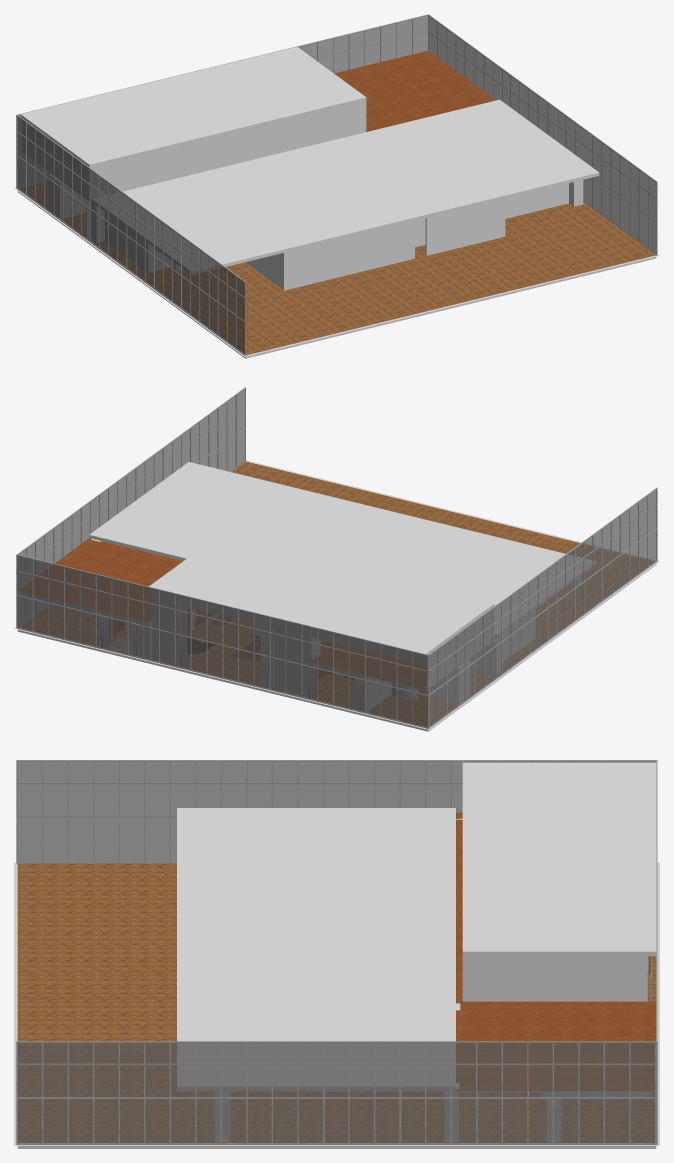
File: ELJ_ARQ.glb
The picture shows the model from 3 angles, top to bottom: view 1: azimuth 30°, elevation 25°; view 2: azimuth 150°, elevation 25°; view 3: azimuth 270°, elevation 25°; orthographic projection. The views are drawn at different scales.
Visible parts, largest first — view 1: ARQ_2_2, ARQ_2_1, ARQ_1_3, ARQ_0_1, ARQ_4_1, ARQ_1_1, ARQ_2_3, ARQ_3_1, ARQ_0_3, ARQ_0_2; view 2: ARQ_2_2, ARQ_2_3, ARQ_1_3, ARQ_2_1, ARQ_0_1, ARQ_4_1, ARQ_0_3, ARQ_3_2, ARQ_3_3, ARQ_1_1, ARQ_0_2; view 3: ARQ_2_2, ARQ_2_1, ARQ_4_1, ARQ_1_3, ARQ_0_1, ARQ_3_3, ARQ_3_2, ARQ_2_3, ARQ_3_1.
Part boxes in pixels (<box>): ARQ_2_2: <box>21,50,599,274</box>; ARQ_2_1: <box>14,181,659,358</box>; ARQ_1_3: <box>20,47,366,199</box>; ARQ_0_1: <box>17,115,245,355</box>; ARQ_4_1: <box>428,14,657,255</box>; ARQ_1_1: <box>105,212,414,290</box>; ARQ_2_3: <box>16,14,428,188</box>; ARQ_3_1: <box>425,180,583,255</box>; ARQ_0_3: <box>49,174,87,218</box>; ARQ_0_2: <box>86,201,104,242</box>; ARQ_2_2: <box>18,462,596,690</box>; ARQ_2_3: <box>16,554,429,728</box>; ARQ_1_3: <box>149,536,494,699</box>; ARQ_2_1: <box>14,460,659,731</box>; ARQ_0_1: <box>428,487,657,728</box>; ARQ_4_1: <box>17,387,245,626</box>; ARQ_0_3: <box>354,660,469,711</box>; ARQ_3_2: <box>91,539,194,662</box>; ARQ_3_3: <box>22,593,130,653</box>; ARQ_1_1: <box>503,610,535,661</box>; ARQ_0_2: <box>469,636,500,677</box>; ARQ_2_2: <box>177,808,656,1102</box>; ARQ_2_1: <box>14,862,659,1148</box>; ARQ_4_1: <box>16,1041,656,1144</box>; ARQ_1_3: <box>462,762,656,1001</box>; ARQ_0_1: <box>16,760,656,863</box>; ARQ_3_3: <box>547,1093,652,1141</box>; ARQ_3_2: <box>401,985,647,1142</box>; ARQ_2_3: <box>649,760,657,1144</box>; ARQ_3_1: <box>215,1091,324,1142</box>.
Bounding box in the file's own units: 40.11 × 7.1 × 38.58.
Materials: 249 (204 with a texture image).
